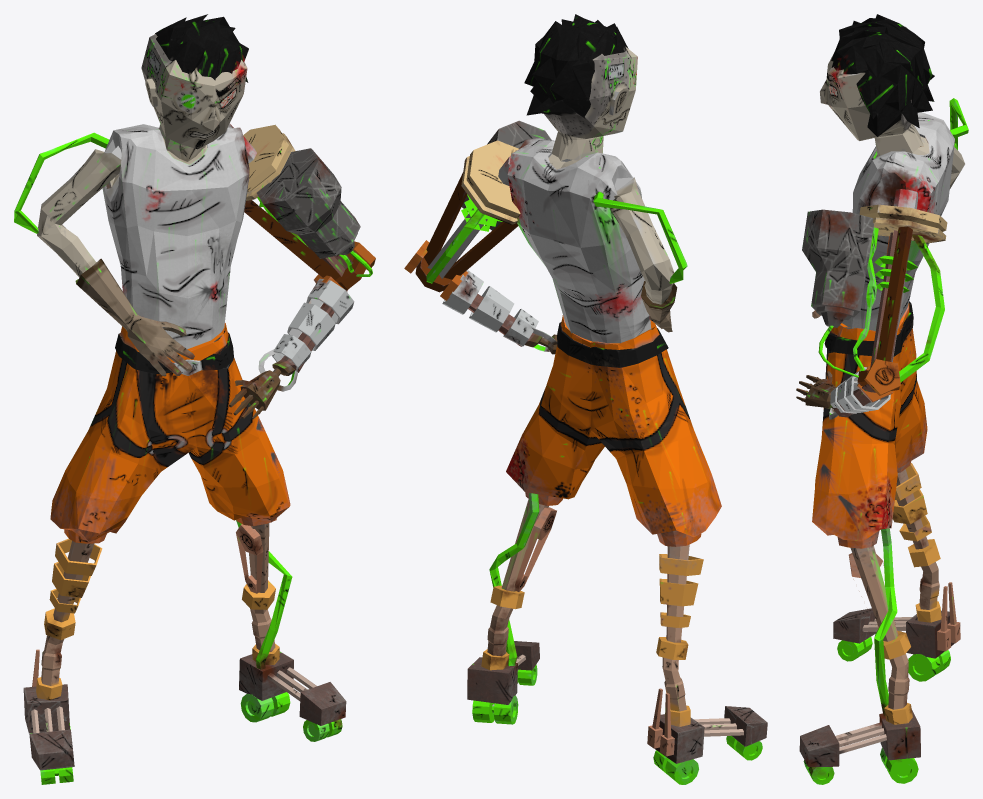
Rendered from CyborgFINALAnimation_000032.obj.
The picture shows the model from 3 angles, left to right: view 1: azimuth 30°, elevation 25°; view 2: azimuth 150°, elevation 25°; view 3: azimuth 270°, elevation 25°; orthographic projection.
Parts seen in each view (by area): view 1: CyborgMesh_Cube.002; view 2: CyborgMesh_Cube.002; view 3: CyborgMesh_Cube.002.
Part boxes in pixels (x1=…): CyborgMesh_Cube.002: x1=14, y1=14, x2=375, y2=784; CyborgMesh_Cube.002: x1=404, y1=14, x2=767, y2=784; CyborgMesh_Cube.002: x1=796, y1=14, x2=968, y2=784.
Bounding box in the file's own units: 4.86 × 9.61 × 2.1.
